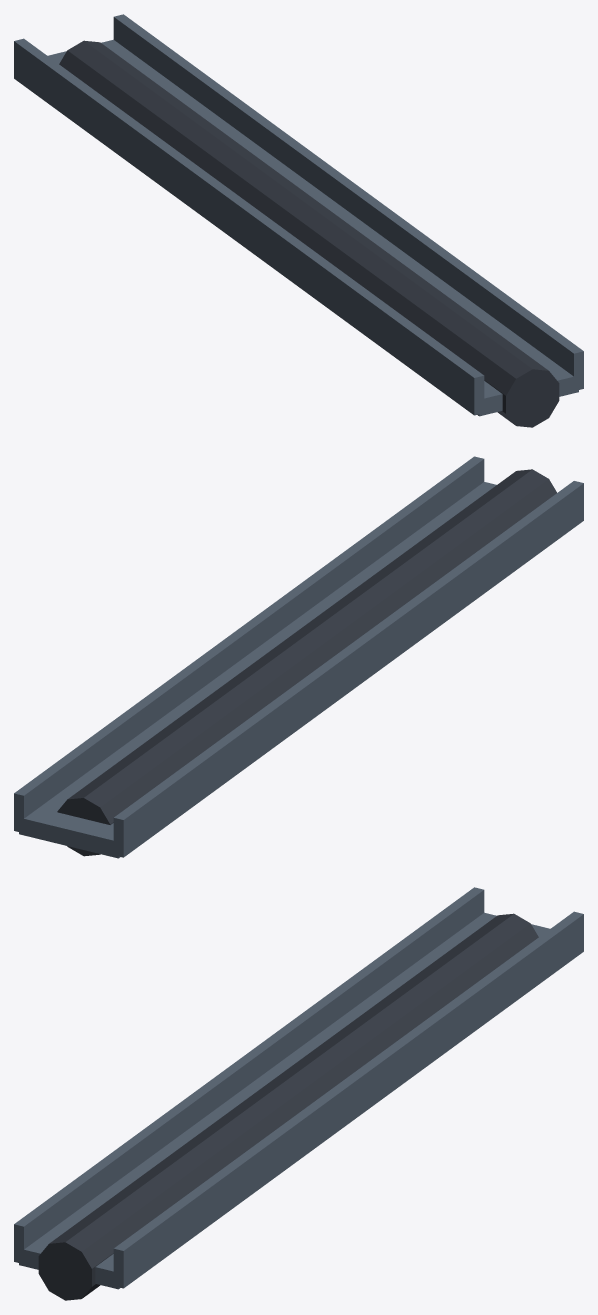
Rendered from Lab_CableTray_A.fbx.
3 renders of one model, top to bottom at view 1: azimuth 30°, elevation 25°; view 2: azimuth 150°, elevation 25°; view 3: azimuth 330°, elevation 25°, orthographic.
Parts seen in each view (by area): view 1: Lab_CableTray_A; view 2: Lab_CableTray_A; view 3: Lab_CableTray_A.
Part boxes in pixels (bbox=[...]): Lab_CableTray_A: bbox=[14, 14, 583, 427]; Lab_CableTray_A: bbox=[14, 456, 583, 858]; Lab_CableTray_A: bbox=[14, 887, 583, 1300].
Bounding box in the file's own units: 0.55 × 0.29 × 4.03.
